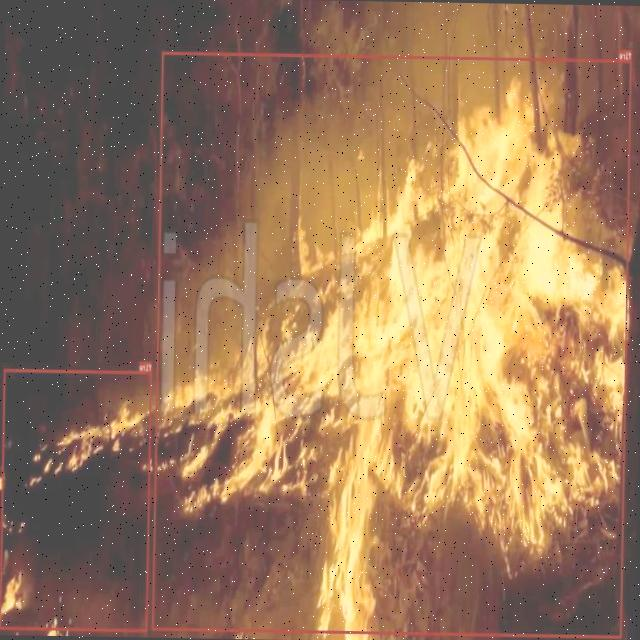fire: (152, 52, 631, 638), (0, 368, 152, 631)
